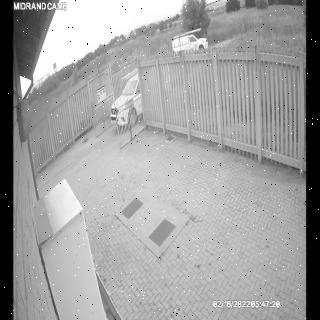car: (110, 61, 171, 126), (171, 34, 207, 56)
